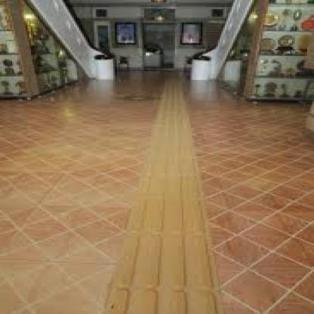Podoctatil: (93, 65, 287, 314)
